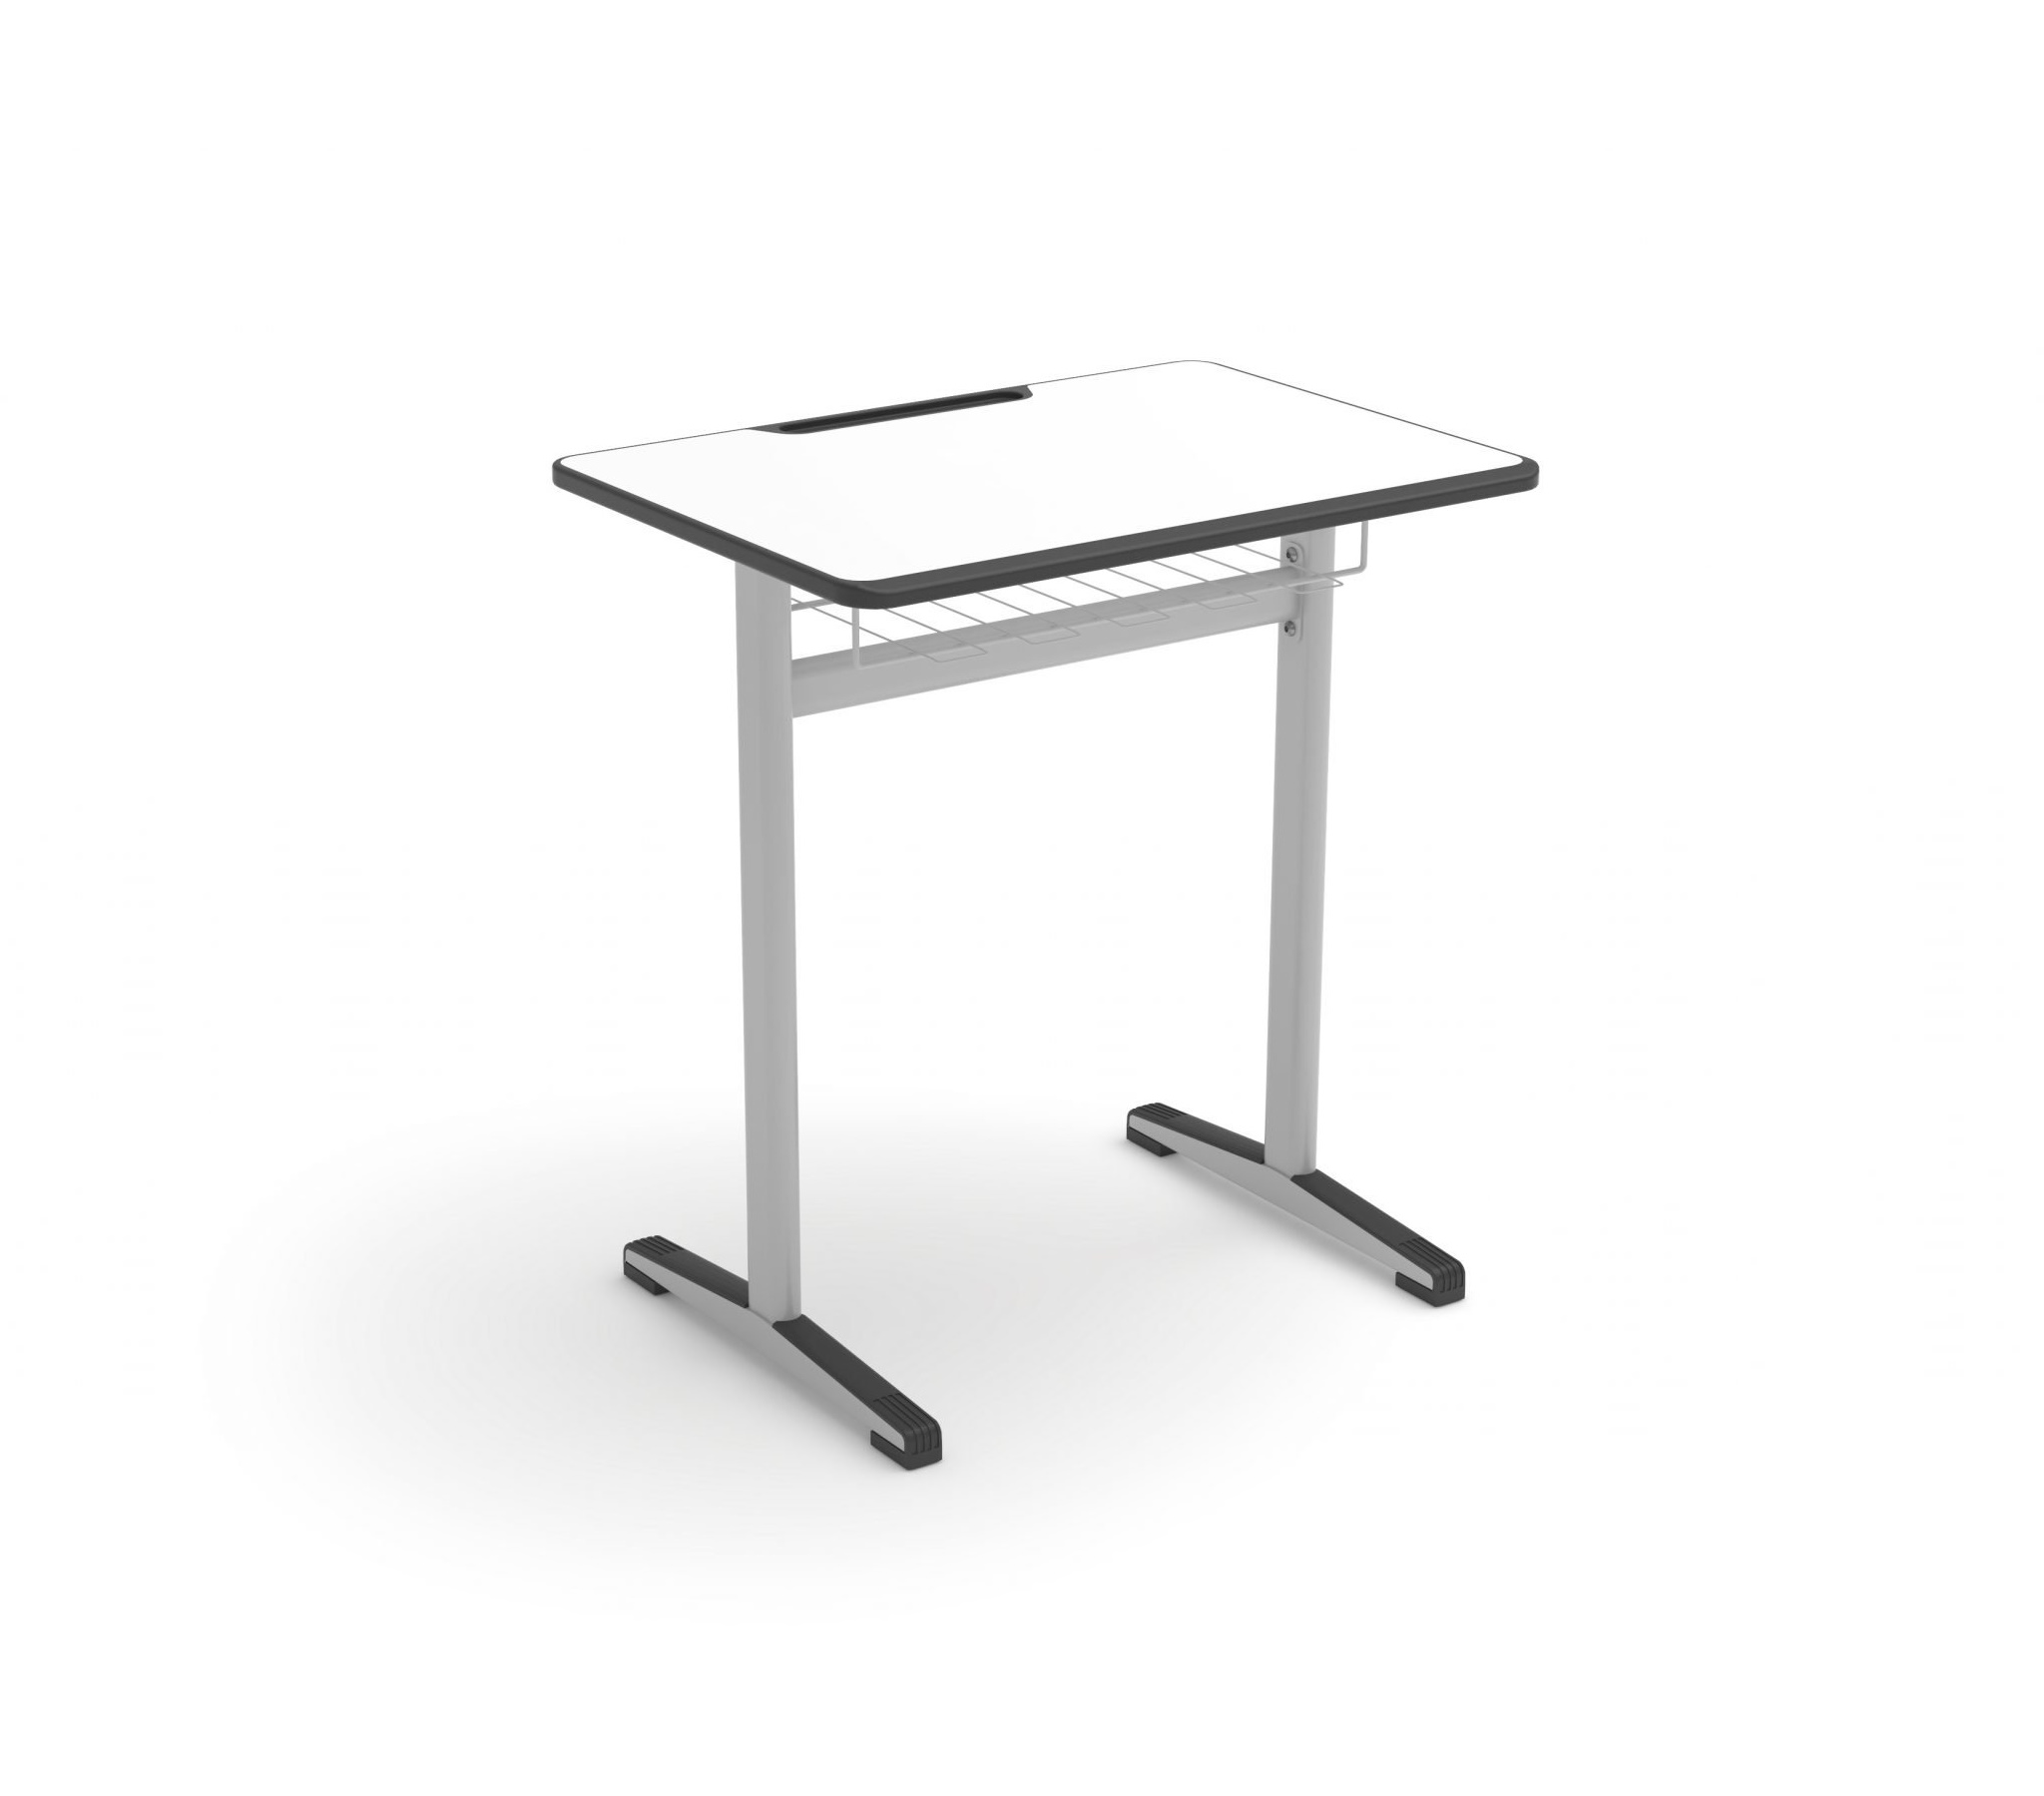m01: (549, 360, 1538, 1466)
